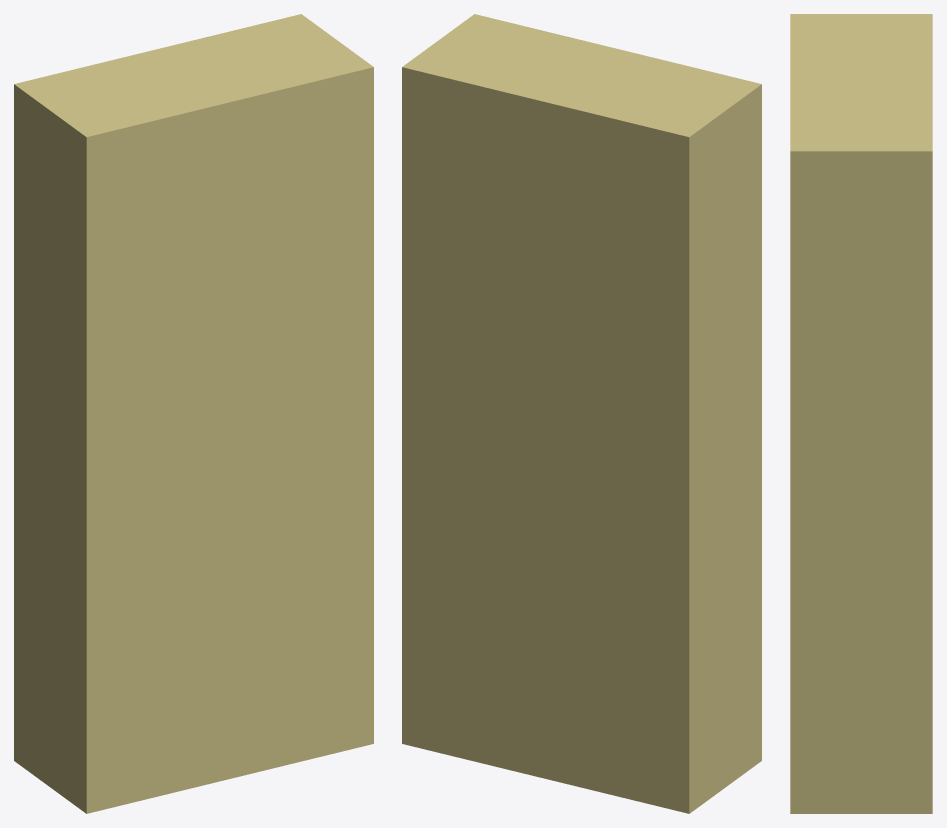
3 renders of one model, left to right at view 1: azimuth 30°, elevation 25°; view 2: azimuth 150°, elevation 25°; view 3: azimuth 270°, elevation 25°, orthographic. The views are drawn at different scales.
Parts seen in each view (by area): view 1: bookshelf; view 2: bookshelf; view 3: bookshelf.
Part boxes in pixels (<box>): bookshelf: <box>14,14,373,813</box>; bookshelf: <box>402,14,761,813</box>; bookshelf: <box>790,14,932,813</box>.
Bounding box in the file's own units: 0.8 × 1.8 × 0.35.
